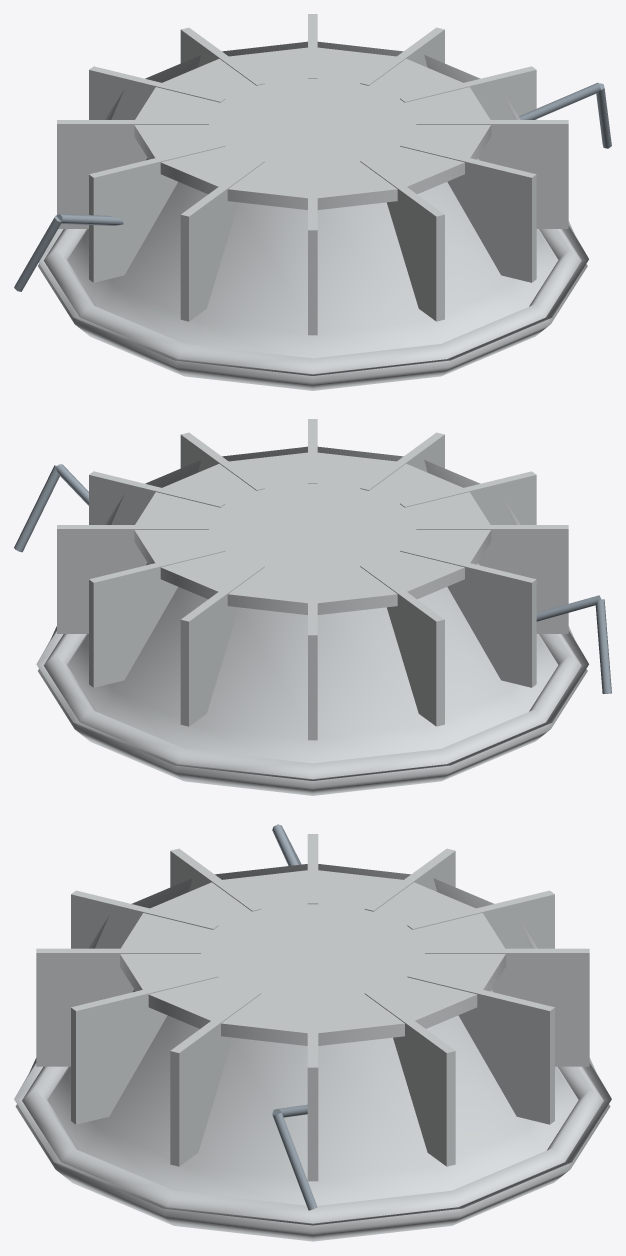
File: source.glb
3 renders of one model, top to bottom at view 1: azimuth 30°, elevation 25°; view 2: azimuth 150°, elevation 25°; view 3: azimuth 270°, elevation 25°, orthographic. The views are drawn at different scales.
Parts seen in each view (by area): view 1: 粉末涂层铝壳, 机加工金属; view 2: 粉末涂层铝壳, 机加工金属; view 3: 粉末涂层铝壳, 机加工金属.
Part boxes in pixels (x1=…): 粉末涂层铝壳: x1=38, y1=14, x2=588, y2=390; 机加工金属: x1=14, y1=82, x2=611, y2=291; 粉末涂层铝壳: x1=36, y1=419, x2=588, y2=795; 机加工金属: x1=14, y1=464, x2=611, y2=693; 粉末涂层铝壳: x1=14, y1=834, x2=611, y2=1241; 机加工金属: x1=272, y1=824, x2=317, y2=1210.
Size of the model in its own units: 0.1808 by 0.0464 by 0.145.
